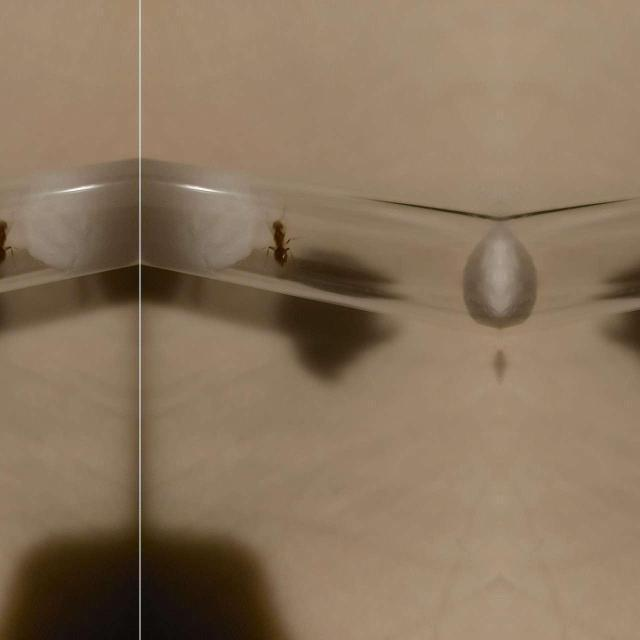Lasius: (268, 220, 298, 268), (0, 220, 12, 268)
